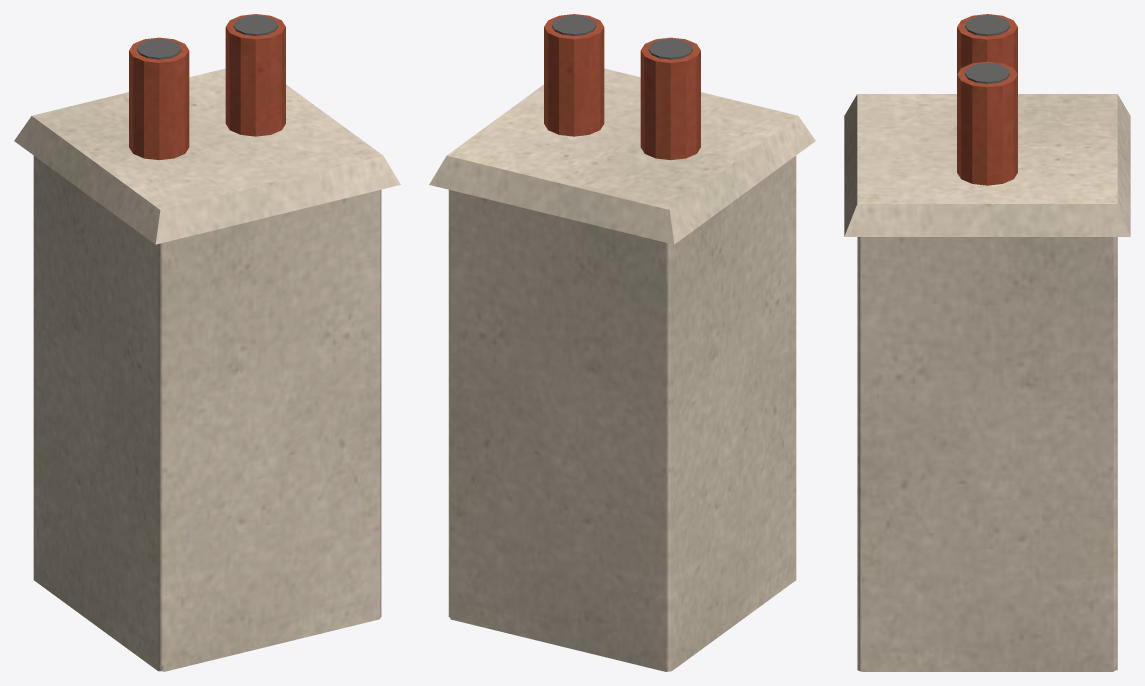
The model's file is chimney_roof.glb.
3 views of the same model, side by side, from view 1: azimuth 30°, elevation 25°; view 2: azimuth 150°, elevation 25°; view 3: azimuth 270°, elevation 25° (orthographic).
Visible parts, largest first — view 1: chimney_roof_render, chimney_roof_tile_clay, chimney_roof_dark; view 2: chimney_roof_render, chimney_roof_tile_clay, chimney_roof_dark; view 3: chimney_roof_render, chimney_roof_tile_clay, chimney_roof_dark.
Part boxes in pixels (left/top/right/bottom): chimney_roof_render: left=14, top=68, right=400, bottom=671; chimney_roof_tile_clay: left=129, top=14, right=285, bottom=160; chimney_roof_dark: left=137, top=15, right=277, bottom=59; chimney_roof_render: left=429, top=68, right=815, bottom=671; chimney_roof_tile_clay: left=544, top=14, right=700, bottom=160; chimney_roof_dark: left=552, top=15, right=692, bottom=59; chimney_roof_render: left=844, top=94, right=1130, bottom=671; chimney_roof_tile_clay: left=957, top=14, right=1017, bottom=185; chimney_roof_dark: left=965, top=15, right=1009, bottom=83.
Size of the model in its own units: 0.66 by 1.44 by 0.66.
3 materials, 2 textured.
